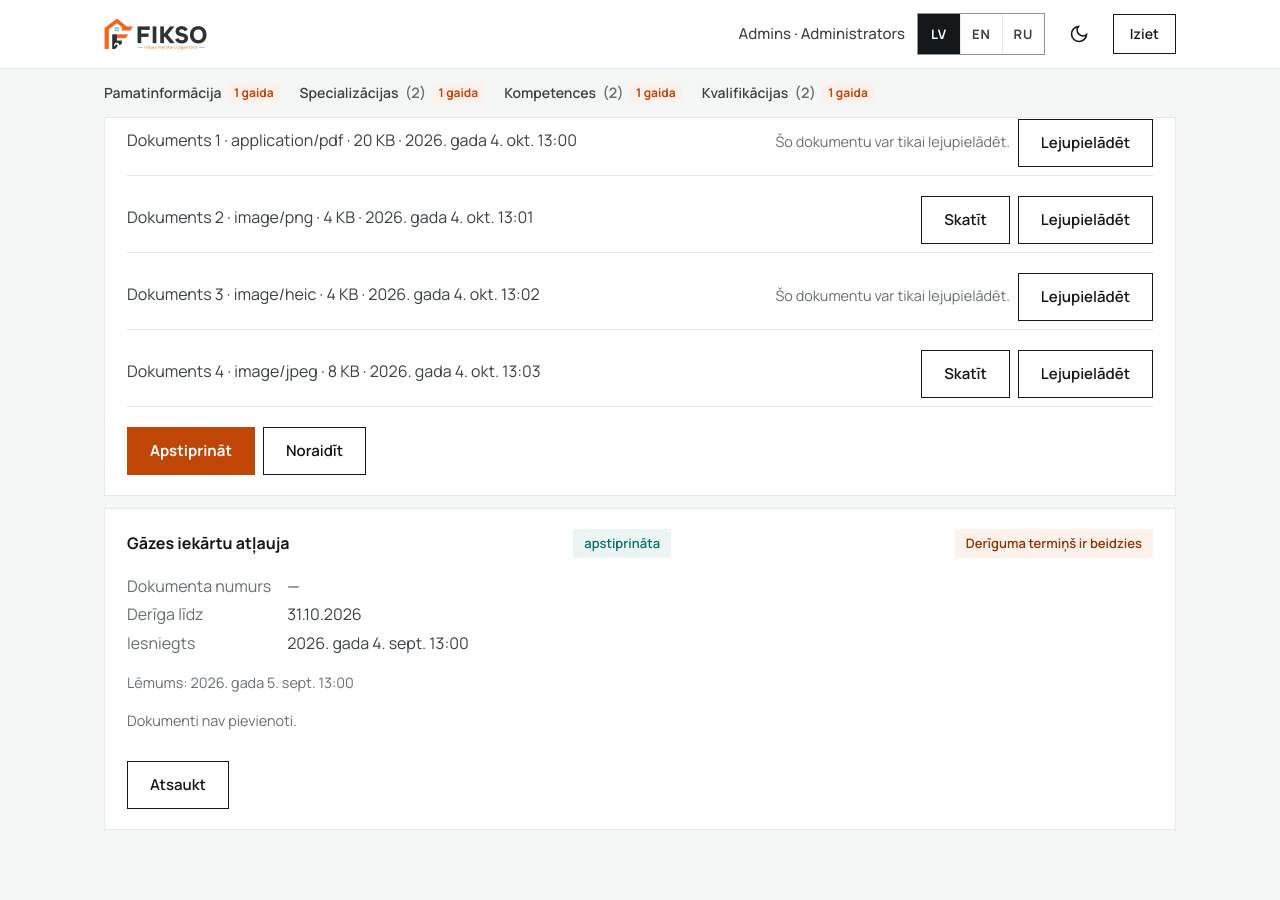
Test: master card: decisions › qualification verify posts only expected_version
The width and height of the screenshot is (1280, 900).
(page scrolled)
Click the button with aria-label "Apstiprināt: Elektrodrošības sertifikāts": [191, 451] box [127,427,255,475]
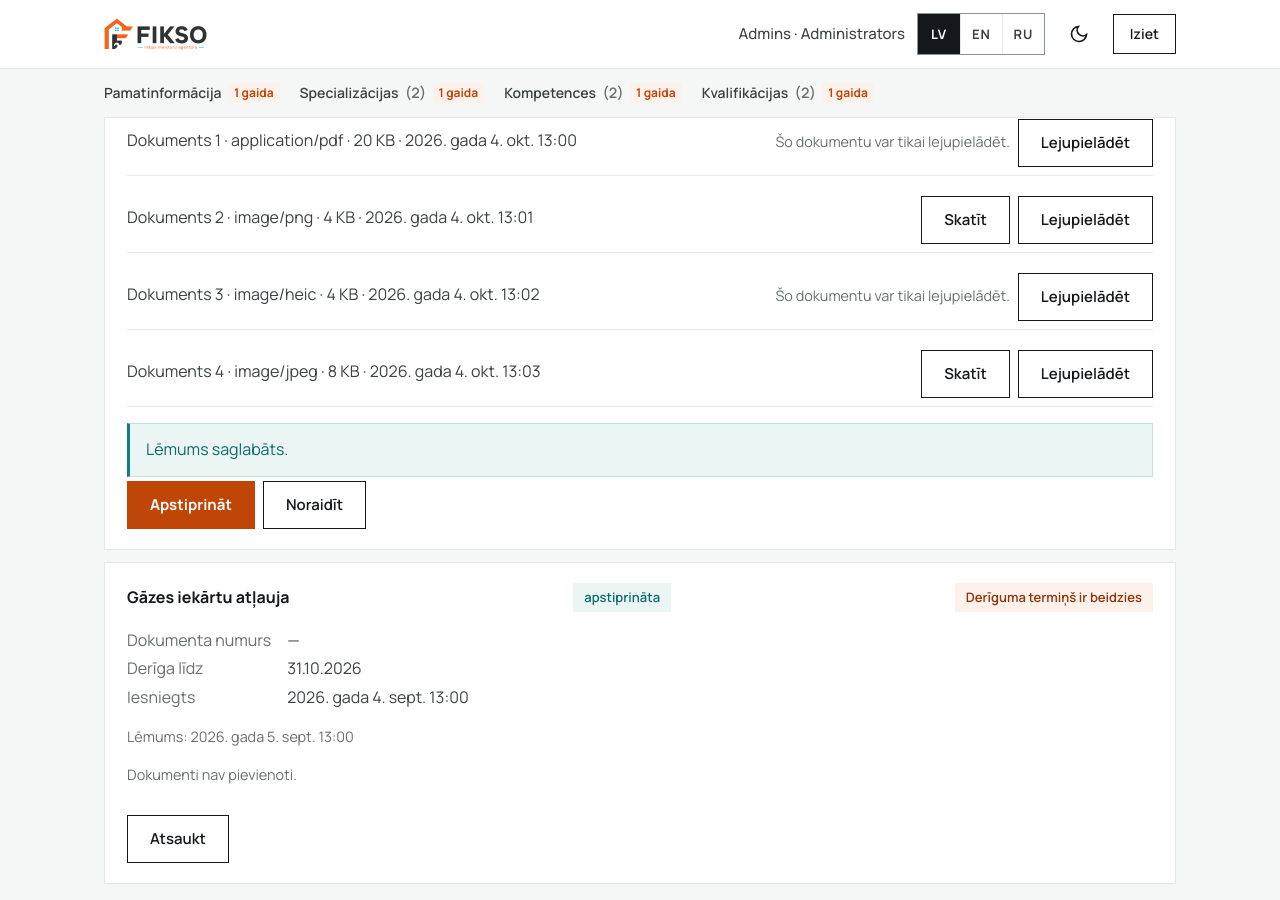
Expected: the text "Lēmums saglabāts." is shown, [127,423,1153,477]
